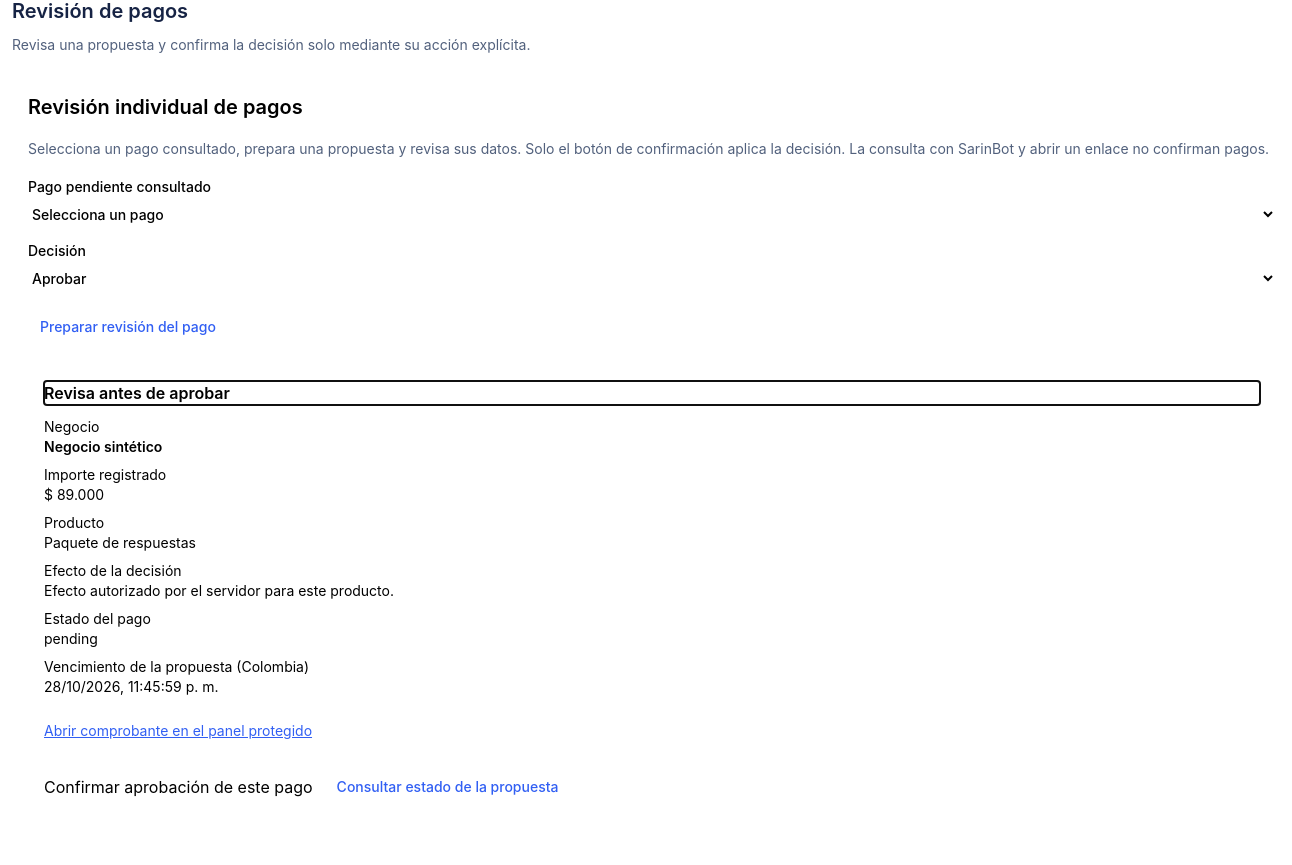
it: payment product labels › reviews and records response_pack as its actual product without inventing a subscription plan
(page scrolled)
Click the button "Confirmar aprobación de este pago" at (178, 787), box [44, 765, 313, 809]
(page scrolled)
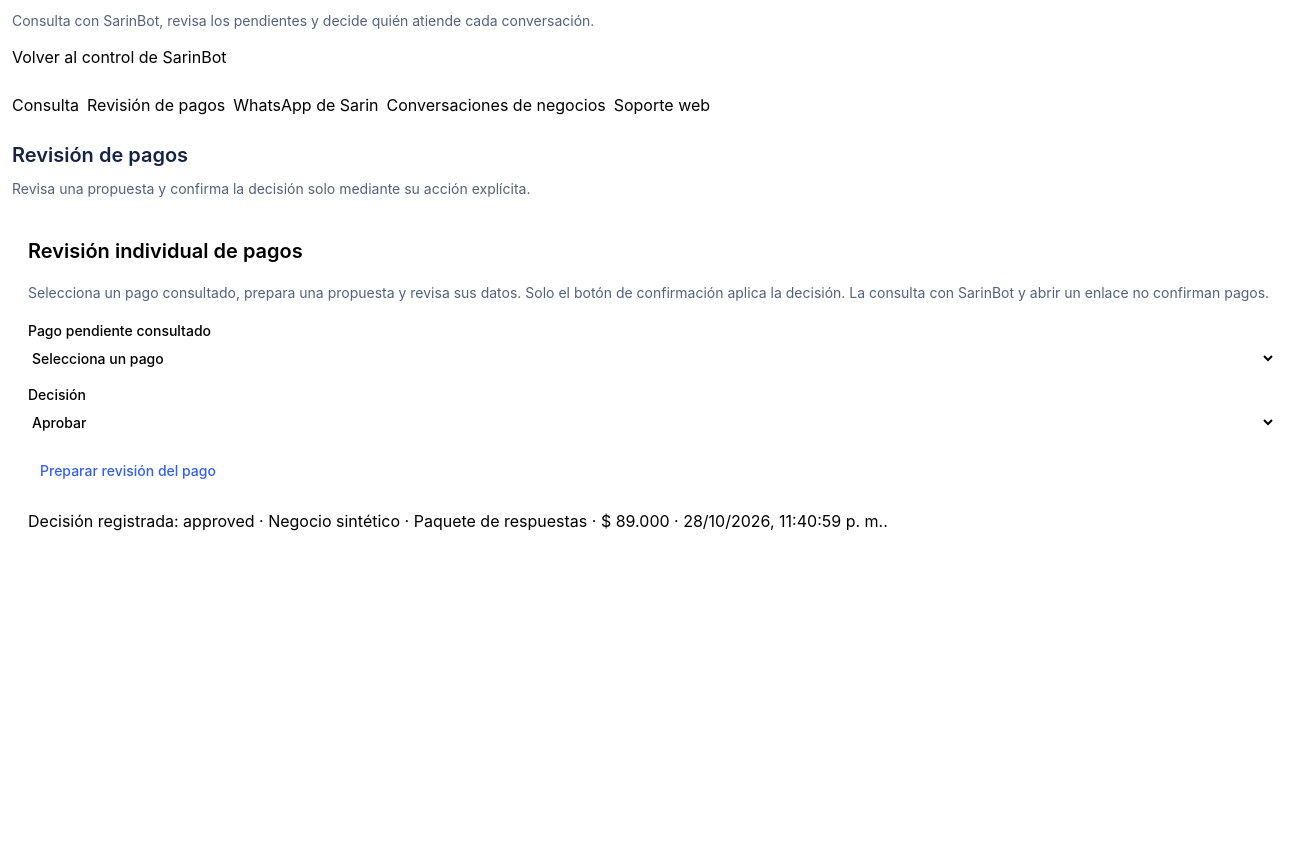
Expected: the message shows "Paquete de respuestas", [414, 511, 587, 531]
